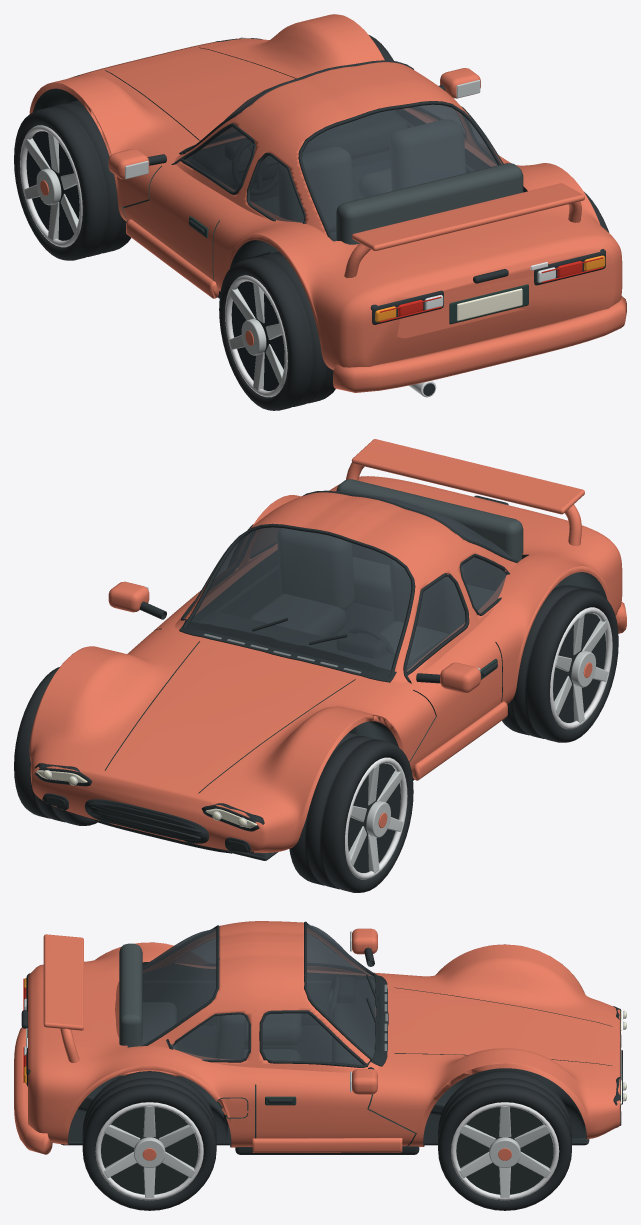
The model's file is tsuki.fbx.
3 renders of one model, top to bottom at view 1: azimuth 30°, elevation 25°; view 2: azimuth 150°, elevation 25°; view 3: azimuth 270°, elevation 25°, orthographic. The views are drawn at different scales.
Parts seen in each view (by area): view 1: Body, Wheel_FL_Mesh, Wheel_RL_Mesh; view 2: Body, Wheel_FL_Mesh, Wheel_RL_Mesh, Wheel_FR_Mesh; view 3: Body, Wheel_RR_Mesh, Wheel_FR_Mesh.
Part boxes in pixels (box(x1,y1,x2,y2)): Body: box(29, 14, 626, 397); Wheel_FL_Mesh: box(14, 100, 130, 260); Wheel_RL_Mesh: box(219, 251, 335, 410); Body: box(29, 439, 626, 860); Wheel_FL_Mesh: box(289, 732, 413, 892); Wheel_RL_Mesh: box(502, 583, 618, 742); Wheel_FR_Mesh: box(14, 667, 97, 825); Body: box(14, 921, 626, 1154); Wheel_RR_Mesh: box(82, 1071, 216, 1210); Wheel_FR_Mesh: box(438, 1071, 571, 1210).
Bounding box in the file's own units: 233 × 143 × 393.
